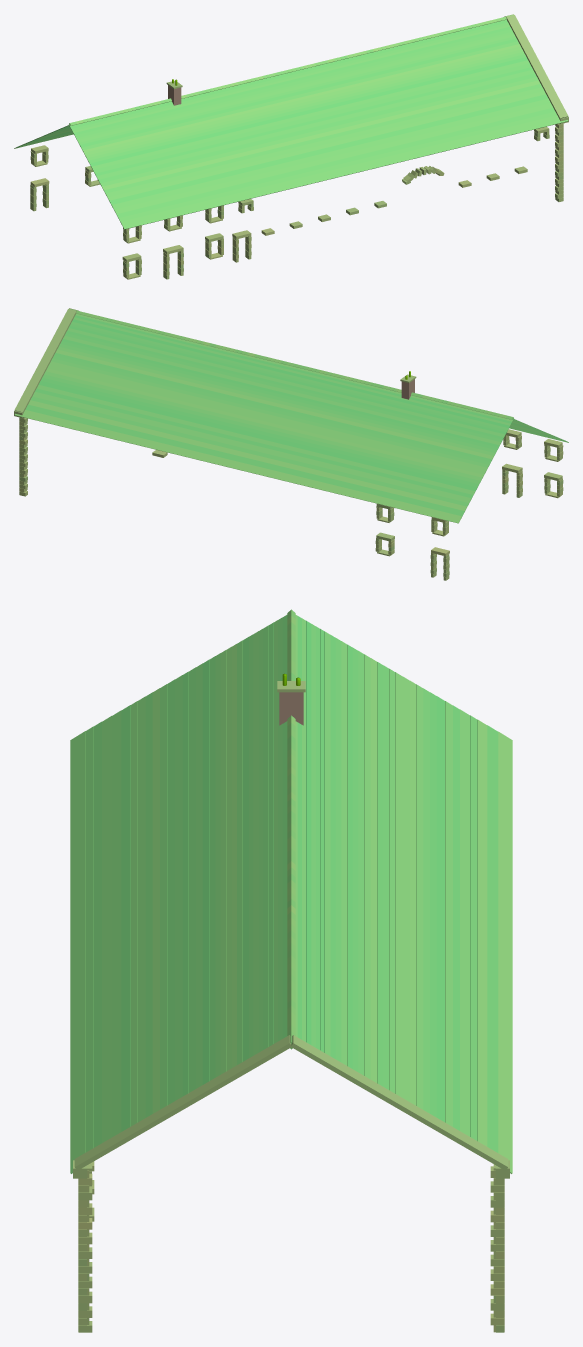
Rendered from SM_Bld_042_Stone.glb.
3 renders of one model, top to bottom at view 1: azimuth 30°, elevation 25°; view 2: azimuth 150°, elevation 25°; view 3: azimuth 270°, elevation 25°, orthographic. The views are drawn at different scales.
Visible parts, largest first — view 1: SM_Bld_042_Stone; view 2: SM_Bld_042_Stone; view 3: SM_Bld_042_Stone.
Part boxes in pixels (<box>): SM_Bld_042_Stone: <box>14,14,568,279</box>; SM_Bld_042_Stone: <box>14,308,568,580</box>; SM_Bld_042_Stone: <box>70,609,512,1332</box>.
Bounding box in the file's own units: 37.99 × 13.47 × 16.33.
